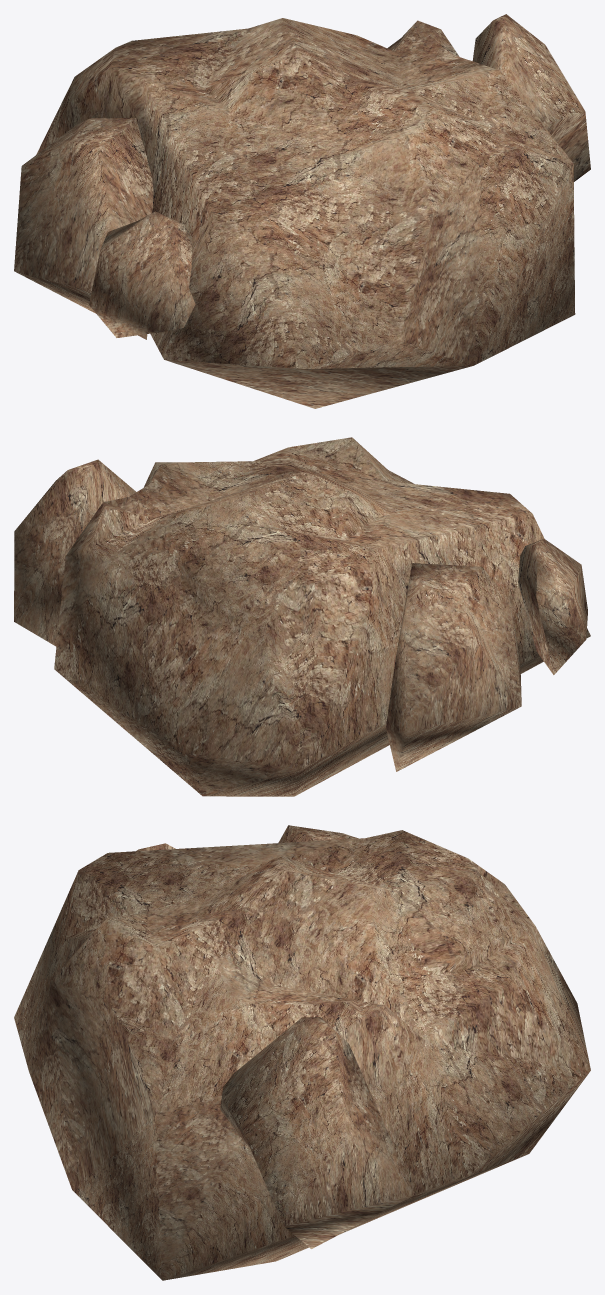
Rendered from rock_tatt_boulder_flat2_l2.fbx.
The picture shows the model from 3 angles, top to bottom: view 1: azimuth 30°, elevation 25°; view 2: azimuth 150°, elevation 25°; view 3: azimuth 270°, elevation 25°; orthographic projection. The views are drawn at different scales.
Visible parts, largest first — view 1: mesh_node; view 2: mesh_node; view 3: mesh_node.
Part boxes in pixels (x1,y1,x2,y2): mesh_node: (14,14,590,408); mesh_node: (14,437,590,796); mesh_node: (14,825,590,1280).
Bounding box in the file's own units: 6.44 × 3.98 × 5.43.
